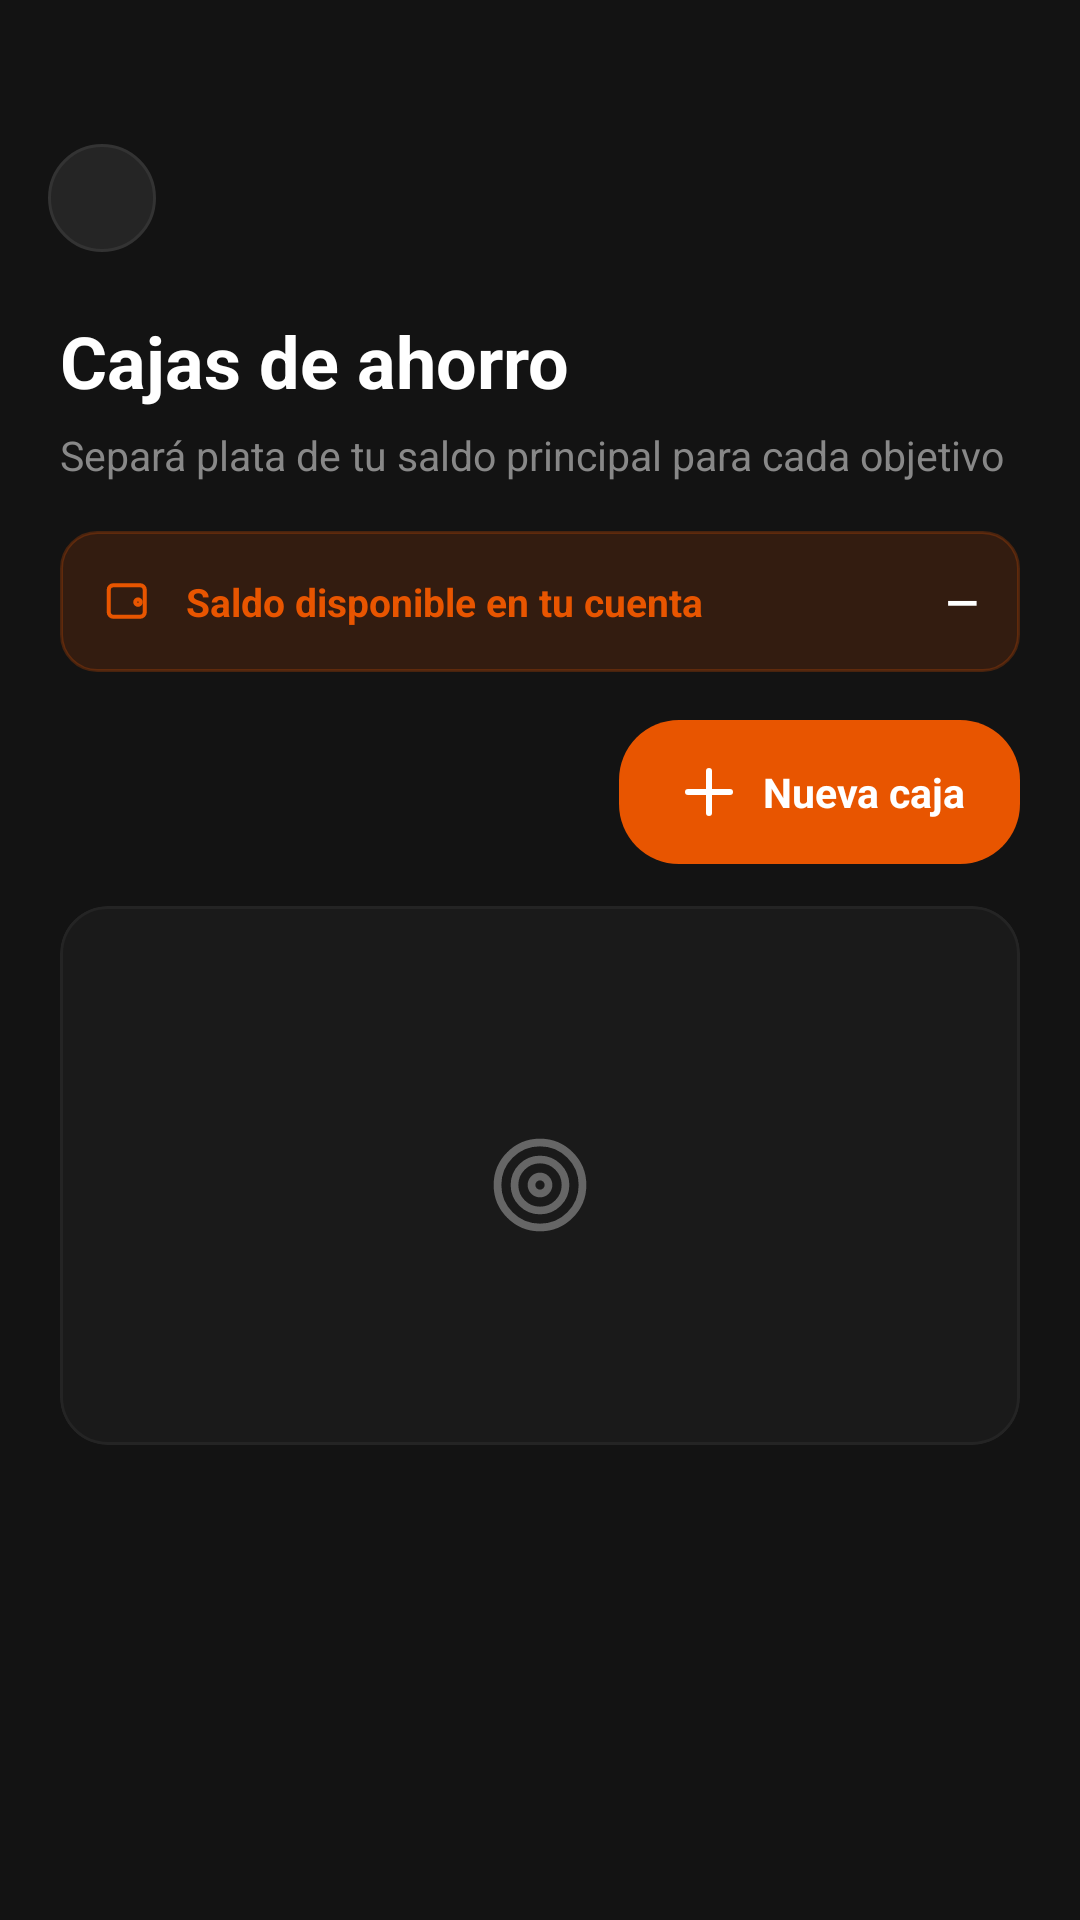

Icons on this 1080 x 1920 Android screen, each with its box as (x1, y1, x2, y2):
target: (494, 1139, 586, 1231)
wallet: (106, 583, 147, 619)
